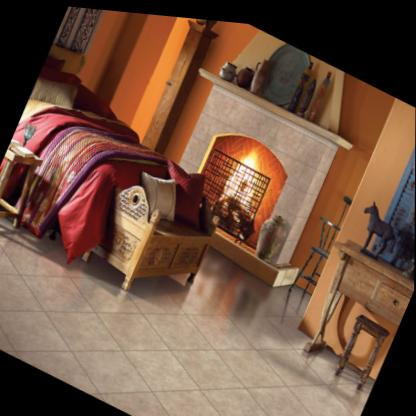Bed: (0, 26, 196, 297)
Ceramic floor: (0, 228, 370, 416)
Table: (292, 223, 415, 381)
